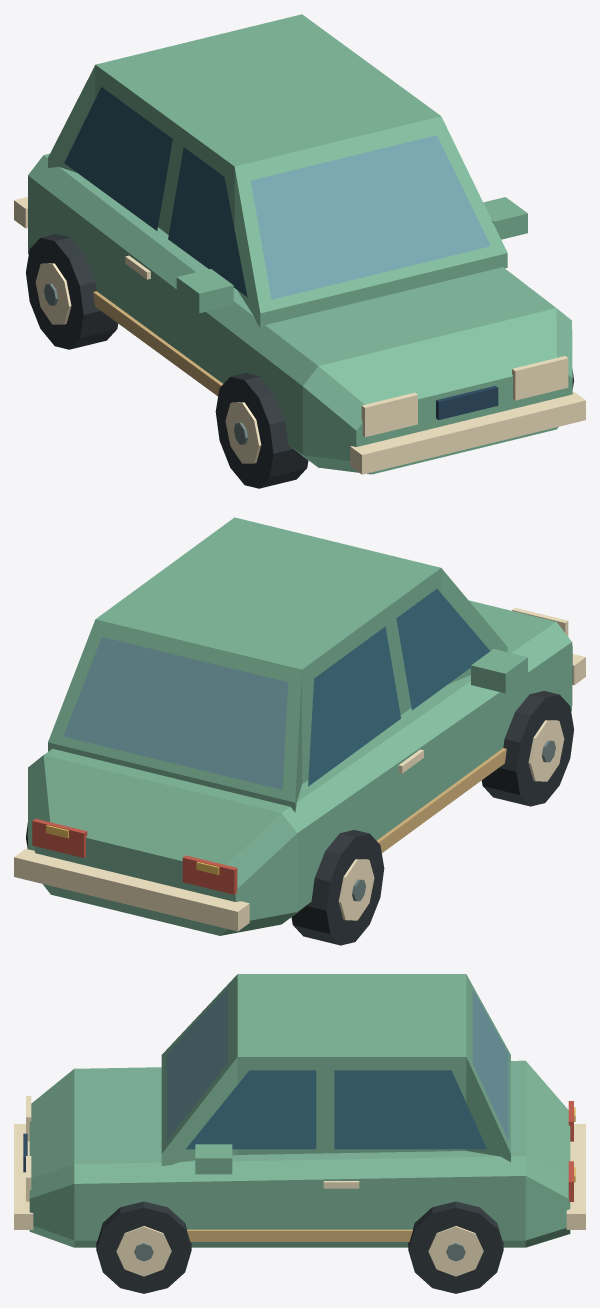
File: civilian-hatchback.glb
The picture shows the model from 3 angles, top to bottom: view 1: azimuth 30°, elevation 25°; view 2: azimuth 150°, elevation 25°; view 3: azimuth 270°, elevation 25°; orthographic projection. The views are drawn at different scales.
Parts seen in each view (by area): view 1: civilian-hatchback; view 2: civilian-hatchback; view 3: civilian-hatchback.
Part boxes in pixels (left/top/right/bottom): civilian-hatchback: left=14, top=14, right=585, bottom=488; civilian-hatchback: left=14, top=517, right=585, bottom=945; civilian-hatchback: left=14, top=974, right=585, bottom=1293.
Size of the model in its own units: 2.1 by 1.62 by 3.85.
Materials: 1 (1 with a texture image).
